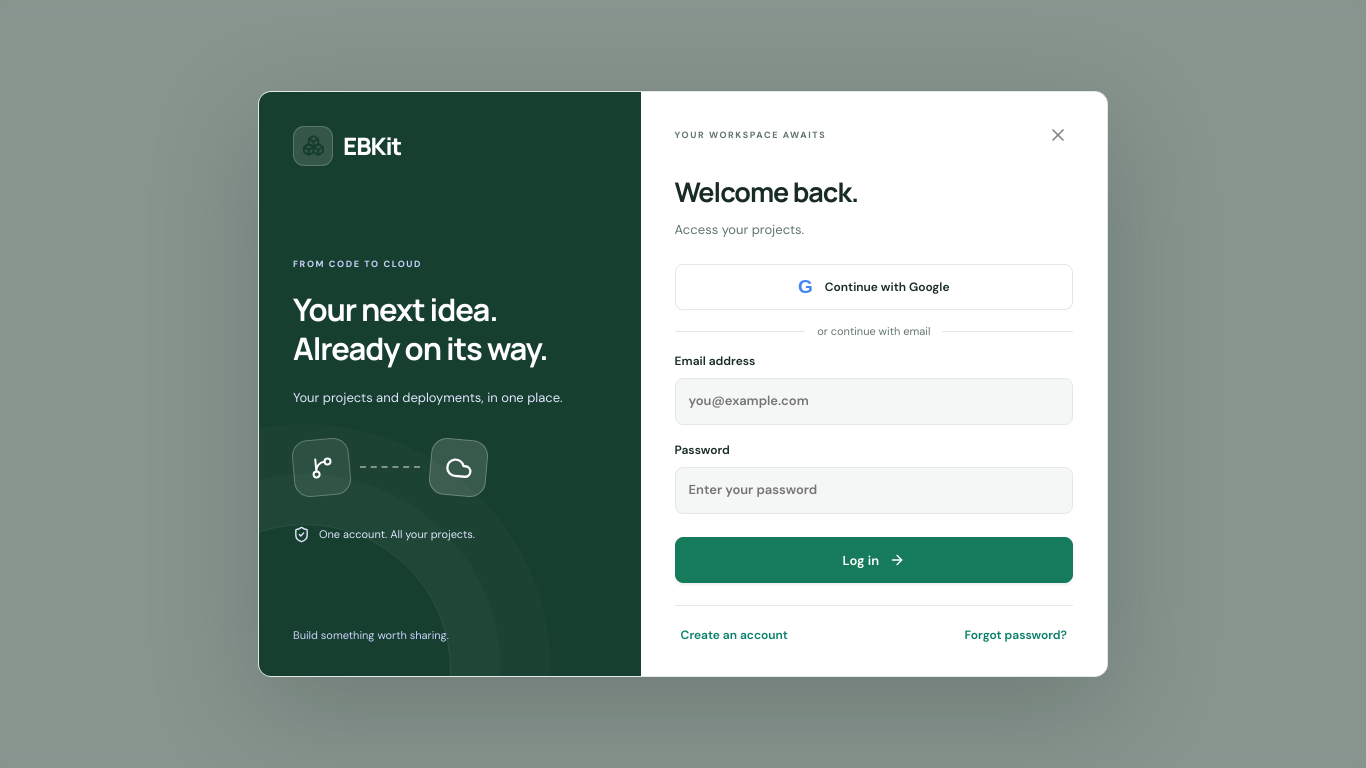
Scenario: shows backend authentication failures
The width and height of the screenshot is (1366, 768).
Type "test@example.test" into the field labelled "Email address".
click(874, 402); type("test@example.test")  # box [675,378,1073,425]
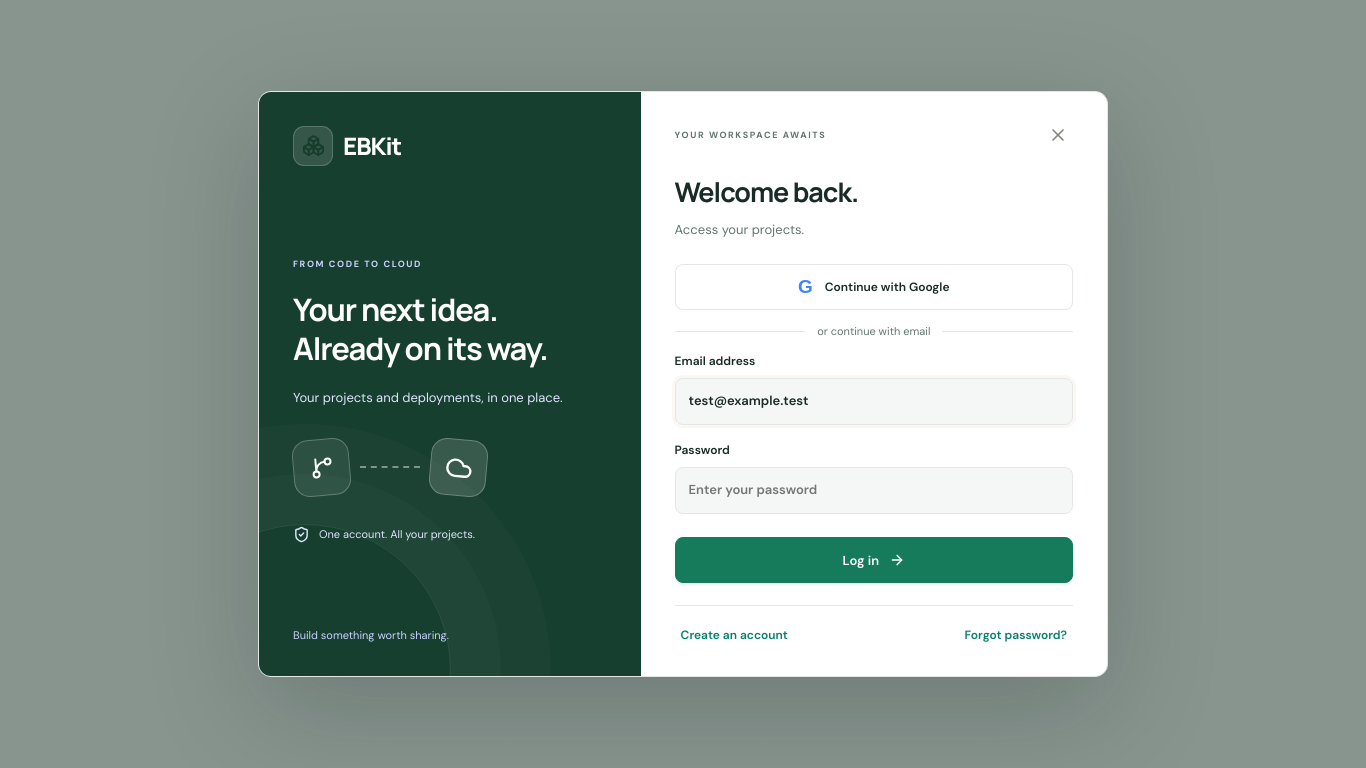
Type "wrong-password" into the password field labelled "Password".
click(874, 491); type("wrong-password")  # box [675,467,1073,514]
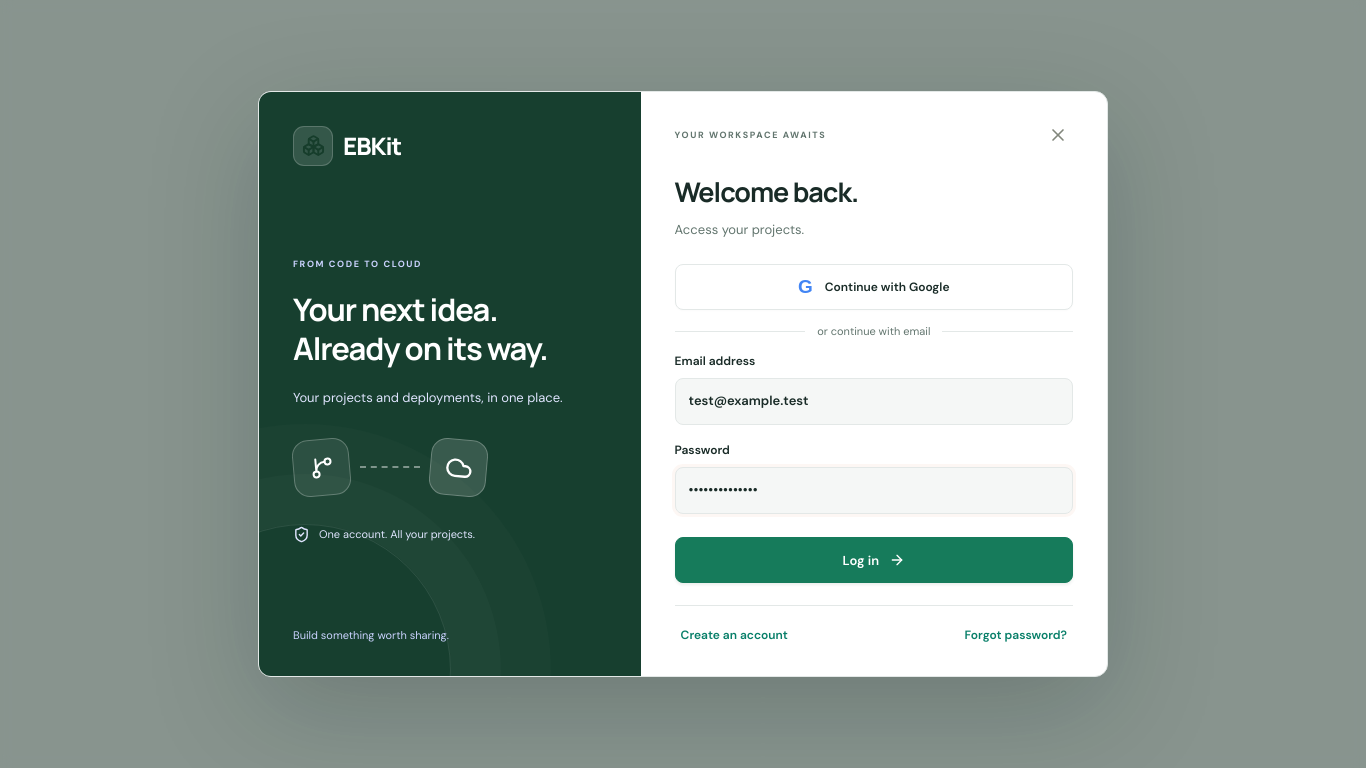
Click the button "Log in".
click(874, 560)  # box [675,537,1073,583]
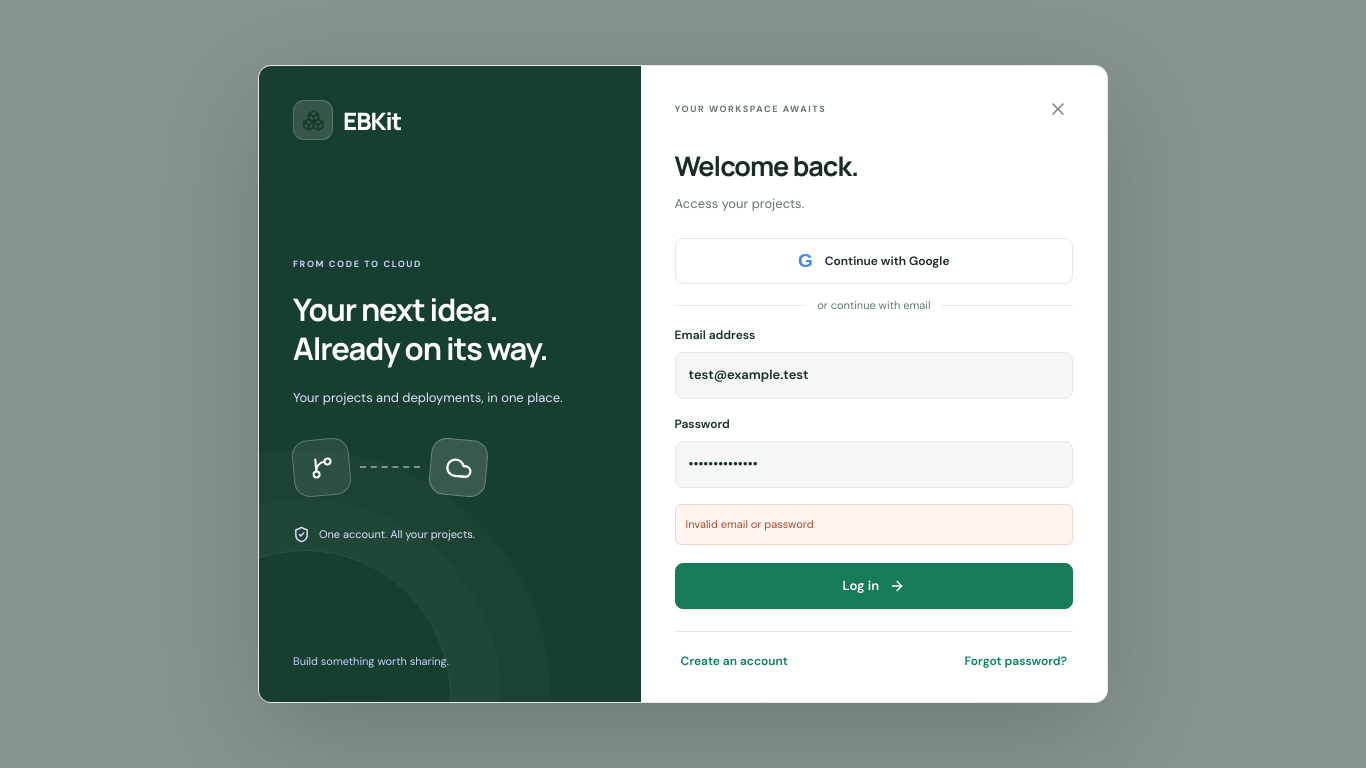
Check: the message reads "Invalid email or password", box [686,517,814,531]
